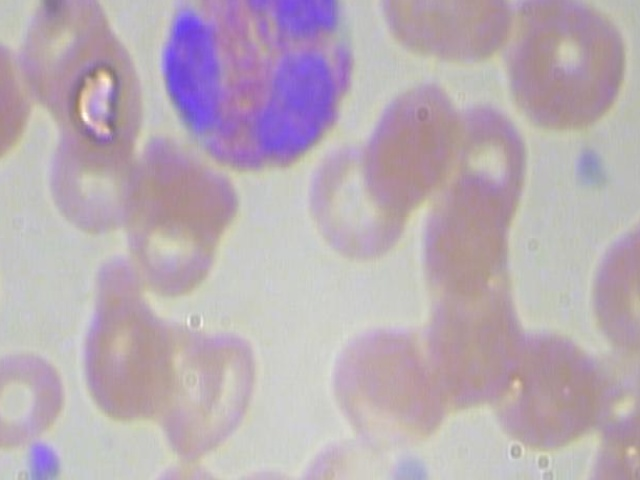Platelets: (564, 139, 613, 202), (18, 439, 71, 480)
RBC: (505, 0, 630, 140), (44, 17, 152, 177), (160, 323, 271, 466), (358, 73, 468, 211), (76, 283, 175, 429), (303, 139, 417, 264), (42, 121, 150, 245), (373, 0, 520, 79), (0, 333, 69, 456)
WBC: (150, 0, 367, 182)
